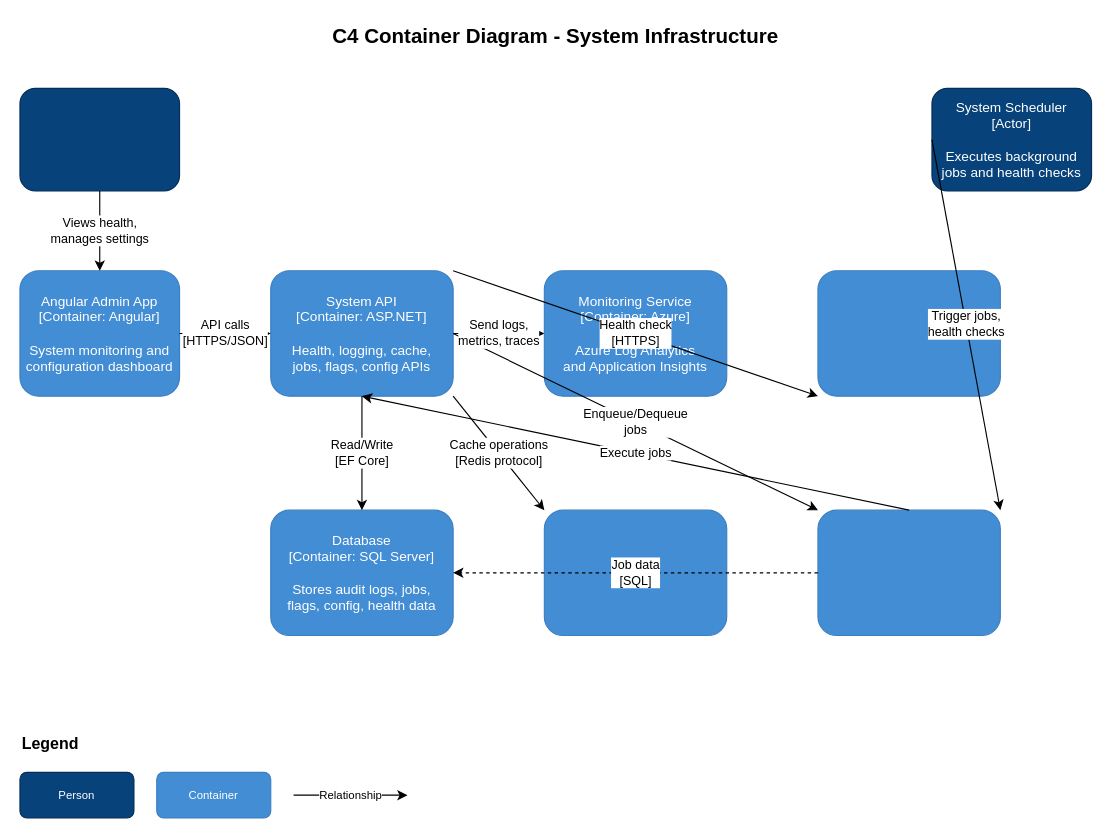
Image size: 1112x838. Some labels were removed from this diagram. Here are the shapes that lost their labels. From the top down, the centre of each, then its label:
(99,139): System Admin [Person] Monitors and manages system infrastructure
(908,333): External Services [Container: External] Third-party APIs and services
(635,572): Redis Cache [Container: Redis] Distributed cache for data and feature flags
(908,572): Message Queue [Container: Hangfire] Background job processing queue
